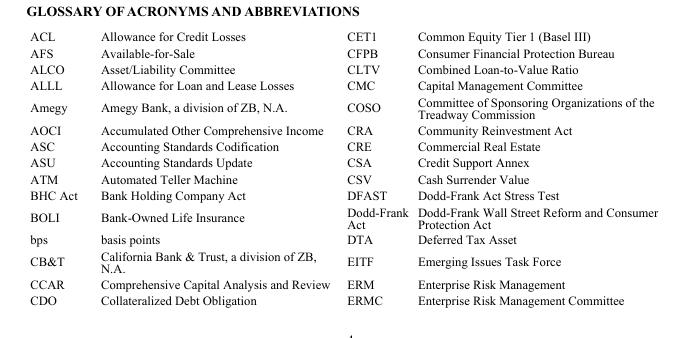table: (29, 28, 657, 306)
table column: (88, 28, 337, 306), (412, 28, 657, 306), (337, 28, 412, 306), (29, 28, 88, 306)
table column header: (29, 28, 657, 44)
table row: (29, 93, 657, 121), (29, 203, 657, 231), (29, 247, 657, 275), (29, 76, 657, 93), (29, 137, 657, 154), (29, 186, 657, 203), (29, 28, 657, 44), (29, 44, 657, 60), (29, 60, 657, 76), (29, 121, 657, 137), (29, 154, 657, 170), (29, 170, 657, 186), (29, 231, 657, 247), (29, 275, 657, 291), (29, 291, 657, 306)
